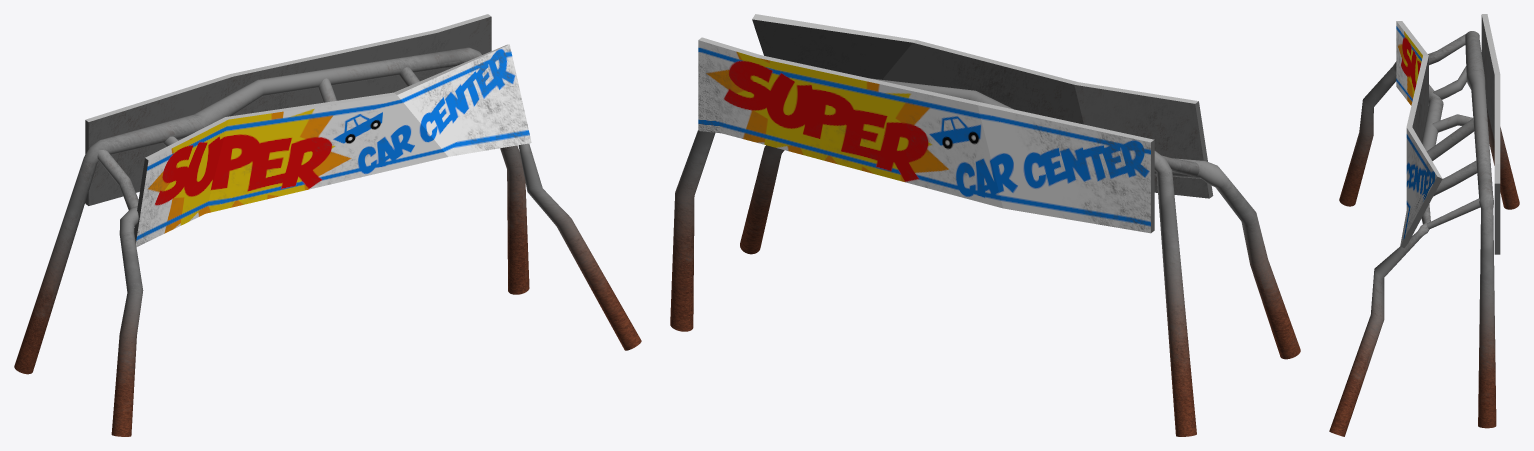
The model's file is 결승선.fbx.
The picture shows the model from 3 angles, left to right: view 1: azimuth 30°, elevation 25°; view 2: azimuth 150°, elevation 25°; view 3: azimuth 270°, elevation 25°; orthographic projection. The views are drawn at different scales.
Visible parts, largest first — view 1: Cylinder; view 2: Cylinder; view 3: Cylinder.
Part boxes in pixels (bbox=[...]): Cylinder: bbox=[14, 14, 641, 436]; Cylinder: bbox=[670, 14, 1300, 436]; Cylinder: bbox=[1329, 14, 1519, 436].
Bounding box in the file's own units: 1845 × 944 × 689.
Materials: 1 (1 with a texture image).
